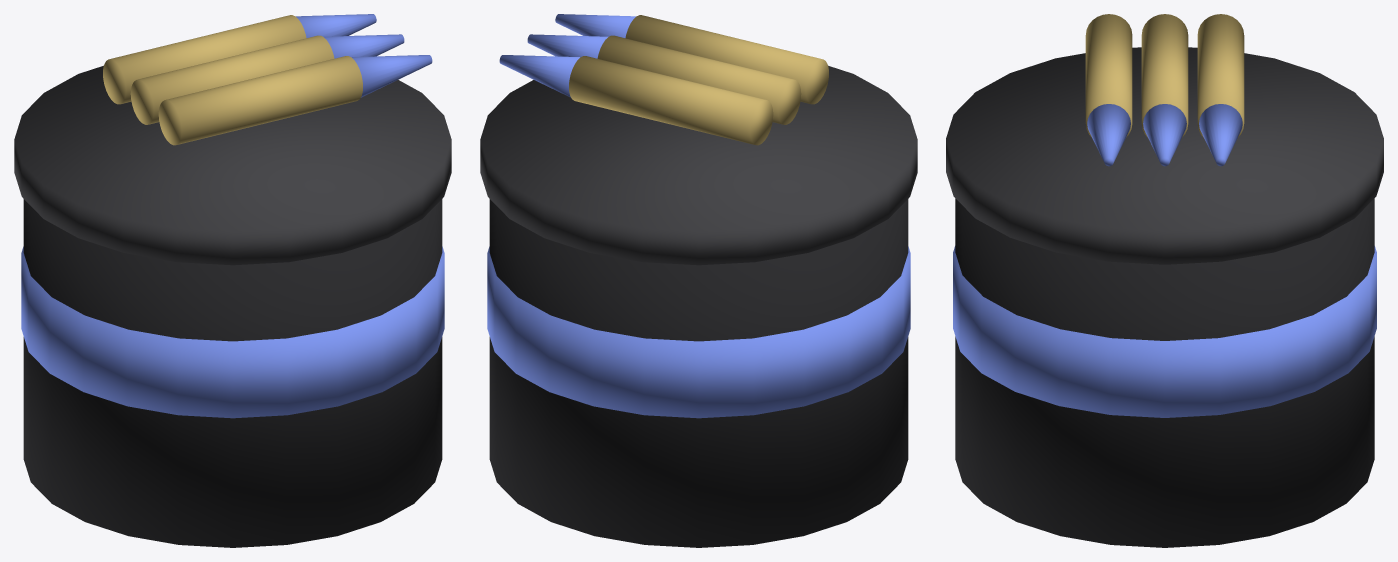
The model's file is SM_AmmoAP.glb.
3 renders of one model, left to right at view 1: azimuth 30°, elevation 25°; view 2: azimuth 150°, elevation 25°; view 3: azimuth 270°, elevation 25°, orthographic.
Visible parts, largest first — view 1: SM_AmmoAP; view 2: SM_AmmoAP; view 3: SM_AmmoAP.
Boxes of the visible parts, x1,y1,x2,y2 form: SM_AmmoAP: [14, 14, 451, 547]; SM_AmmoAP: [480, 14, 917, 547]; SM_AmmoAP: [946, 14, 1383, 547].
Size of the model in its own units: 0.094 by 0.095 by 0.094.
